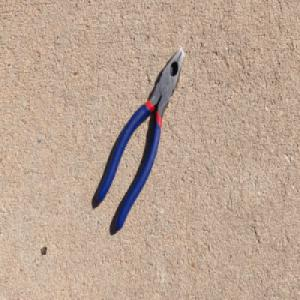Pliers: (95, 45, 185, 233)
